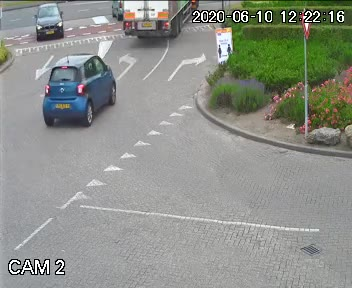car: (38, 49, 121, 120), (120, 0, 197, 43), (31, 0, 68, 42)
